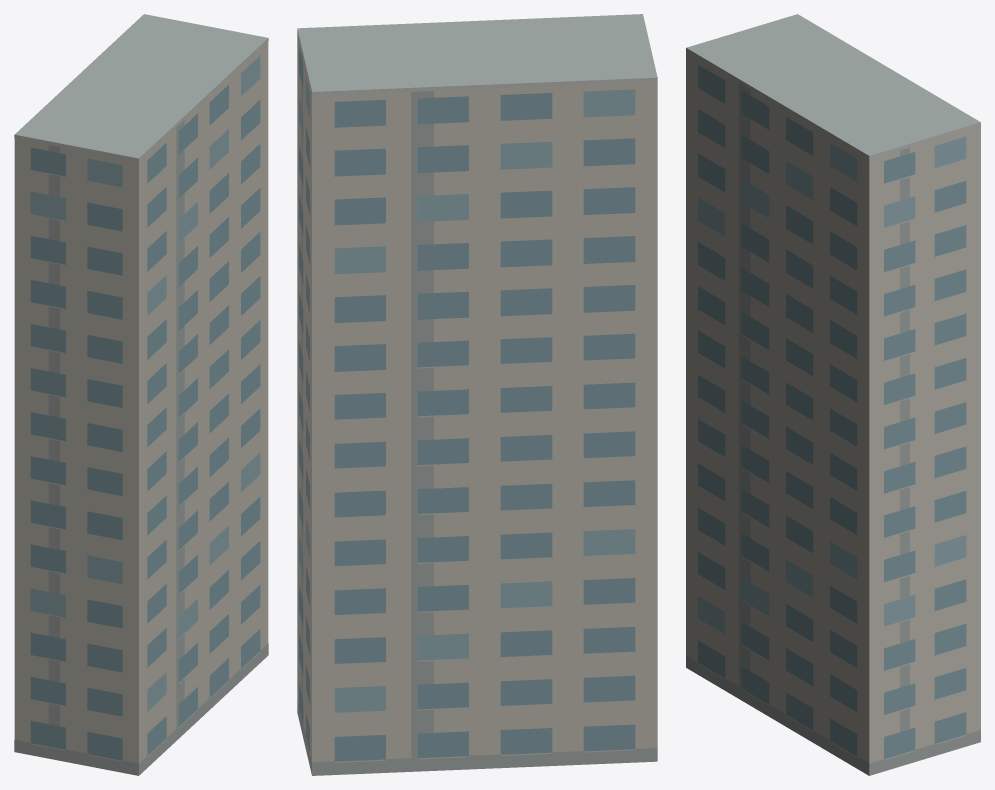
The model's file is residential-583d8ace-192b-4a4a-b8d7-3197a2efa955.glb.
3 renders of one model, left to right at view 1: azimuth 30°, elevation 25°; view 2: azimuth 150°, elevation 25°; view 3: azimuth 270°, elevation 25°, orthographic. The views are drawn at different scales.
Visible parts, largest first — view 1: residential-583d8ace-192b-4a4a-b8d7-3197a2efa955.tmp; view 2: residential-583d8ace-192b-4a4a-b8d7-3197a2efa955.tmp; view 3: residential-583d8ace-192b-4a4a-b8d7-3197a2efa955.tmp.
Boxes of the visible parts, left/top/right/bottom form: residential-583d8ace-192b-4a4a-b8d7-3197a2efa955.tmp: left=14, top=14, right=268, bottom=775; residential-583d8ace-192b-4a4a-b8d7-3197a2efa955.tmp: left=297, top=14, right=657, bottom=775; residential-583d8ace-192b-4a4a-b8d7-3197a2efa955.tmp: left=686, top=14, right=980, bottom=775.
Size of the model in its own units: 19.65 by 40 by 17.24.
